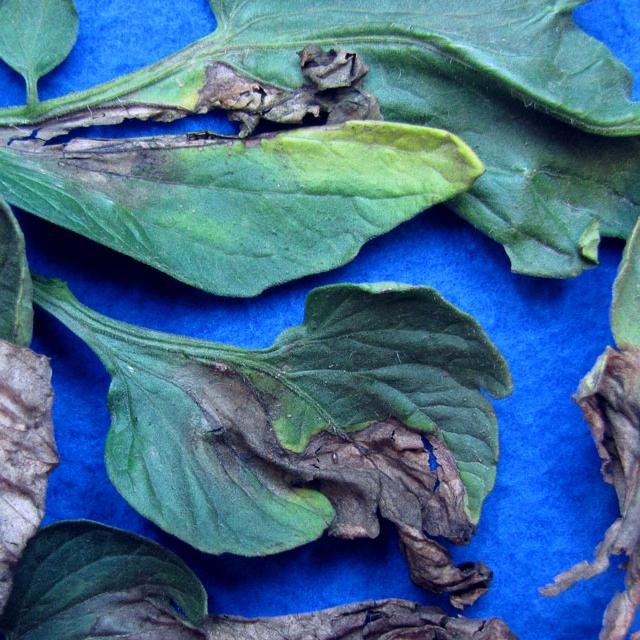Tomato leaf late blight: (0, 0, 458, 291), (55, 276, 526, 556), (0, 513, 521, 640), (550, 34, 640, 640), (0, 0, 63, 640)
